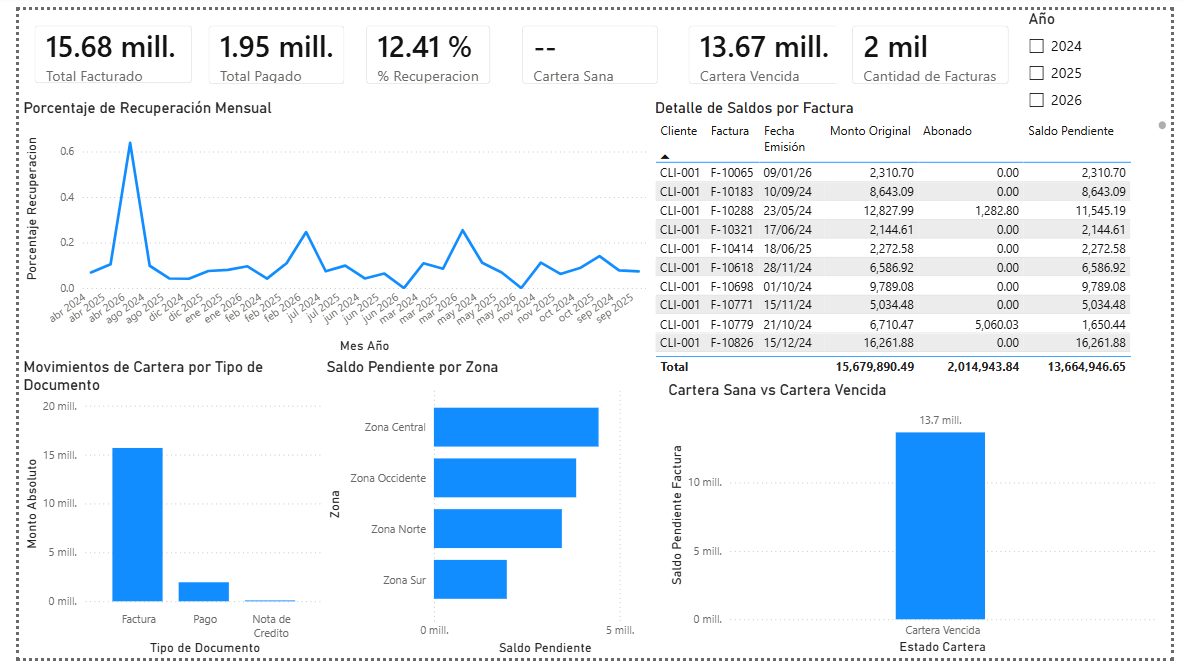

What the dashboard file says about the page in this screenshot:
{"tool":"powerbi","page":{"name":"Resumen Cartera - Ejecutiva","canvas":[1280,720],"ordinal":0},"visuals":[{"type":"cardVisual","fields":{"Data":["Hechos Cartera.Total Facturado"]},"box":[0,0,210,98.2],"z":0},{"type":"cardVisual","fields":{"Data":["Hechos Cartera.Total Pagos"]},"box":[193.6,0,185.5,99.1],"z":1000},{"type":"cardVisual","fields":{"Data":["Hechos Cartera.Porcentaje Recuperacion"]},"box":[369.1,0,172.7,99.1],"z":2000},{"type":"cardVisual","fields":{"Data":["Hechos Cartera.Cartera Vencida"]},"box":[727,0,204,99],"z":3000},{"type":"cardVisual","fields":{"Data":["Hechos Cartera.Cartera Sana"]},"box":[542,0,185,99],"z":4000},{"type":"columnChart","title":"Movimientos de Cartera por Tipo de Documento","fields":{"Category":["Hechos Cartera.Tipo_Documento"],"Y":["Hechos Cartera.Monto Absoluto"]},"box":[0,386,344,334],"z":5000},{"type":"barChart","fields":{"Category":["Zona.Zona"],"Y":["Hechos Cartera.Saldo Pendiente"]},"box":[337.3,386.4,392.7,333.6],"z":6000},{"type":"lineChart","title":"Porcentaje de Recuperación Mensual","fields":{"Y":["Hechos Cartera.Porcentaje Recuperacion"],"Category":["Fecha.Mes Año"]},"box":[0,99.1,701.8,287.3],"z":7000},{"type":"tableEx","title":"Detalle de Saldos por Factura","fields":{"Values":["Saldos Cartera.ID_Cliente","Saldos Cartera.ID_Factura","Saldos Cartera.Fecha Emisión Corta","Hechos Cartera.Monto Original Factura","Hechos Cartera.Total Abonado Factura","Hechos Cartera.Saldo Pendiente Factura"]},"box":[702,99,578,312],"z":8000},{"type":"columnChart","title":"Cartera Sana vs Cartera Vencida","fields":{"Category":["Saldos Cartera.Estado Cartera"],"Y":["Hechos Cartera.Saldo Pendiente Factura"]},"box":[716,412,550,308],"z":9000},{"type":"cardVisual","fields":{"Data":["Hechos Cartera.Cantidad Facturas"]},"box":[909,0,208,99],"z":10000},{"type":"listSlicer","fields":{"Values":["Fecha.Fecha.Variación.Jerarquía de fechas.Año"]},"box":[1117,0,163,120],"z":11000}]}

Visuals, with their boxes in screenshot pixels (x1, y1, x2, y2), scaled from the page's 1280x720 canvas onto the 1185x664 screenshot:
cardVisual - Hechos Cartera.Total Facturado: (left=0, top=0, right=194, bottom=91)
cardVisual - Hechos Cartera.Total Pagos: (left=179, top=0, right=351, bottom=91)
cardVisual - Hechos Cartera.Porcentaje Recuperacion: (left=342, top=0, right=502, bottom=91)
cardVisual - Hechos Cartera.Cartera Vencida: (left=673, top=0, right=862, bottom=91)
cardVisual - Hechos Cartera.Cartera Sana: (left=502, top=0, right=673, bottom=91)
"Movimientos de Cartera por Tipo de Documento" columnChart: (left=0, top=356, right=318, bottom=663)
barChart - Zona.Zona x Hechos Cartera.Saldo Pendiente: (left=312, top=356, right=676, bottom=663)
"Porcentaje de Recuperación Mensual" lineChart: (left=0, top=91, right=650, bottom=356)
"Detalle de Saldos por Factura" tableEx: (left=650, top=91, right=1184, bottom=379)
"Cartera Sana vs Cartera Vencida" columnChart: (left=663, top=380, right=1172, bottom=663)
cardVisual - Hechos Cartera.Cantidad Facturas: (left=842, top=0, right=1034, bottom=91)
listSlicer - Fecha.Fecha.Variación.Jerarquía de fechas.Año: (left=1034, top=0, right=1184, bottom=111)
